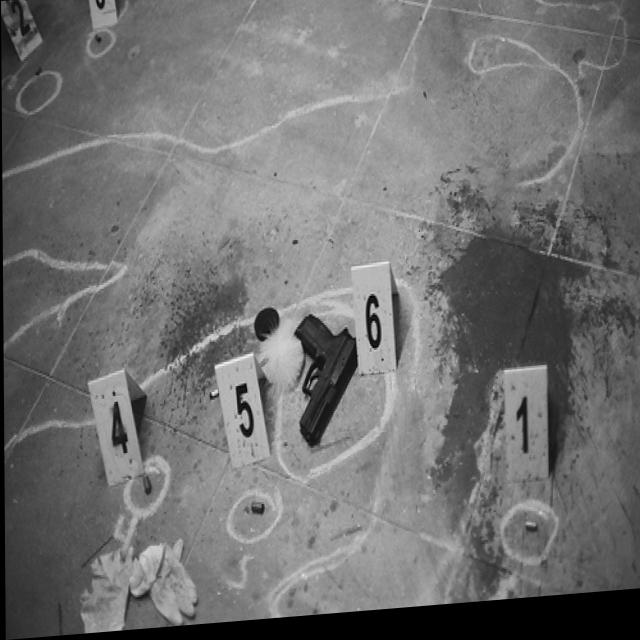handgun: (289, 308, 356, 457)
